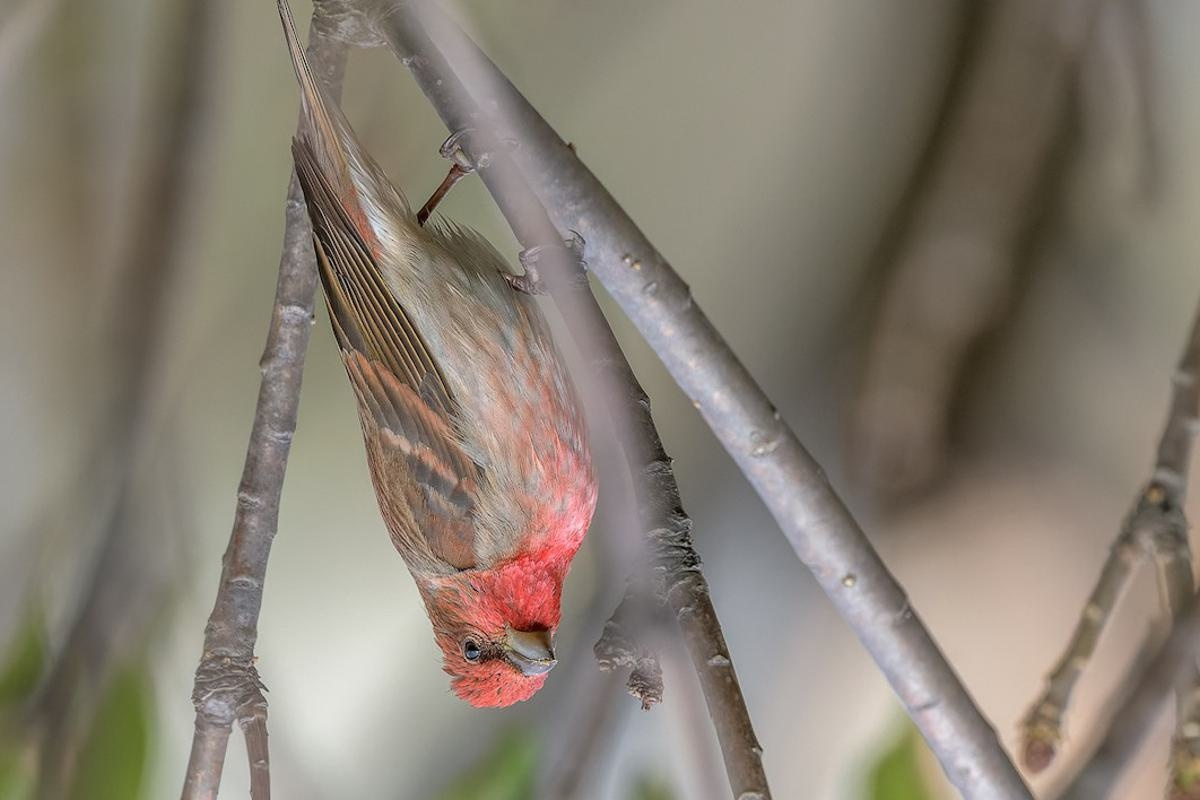rosefinch: (260, 164, 583, 695)
